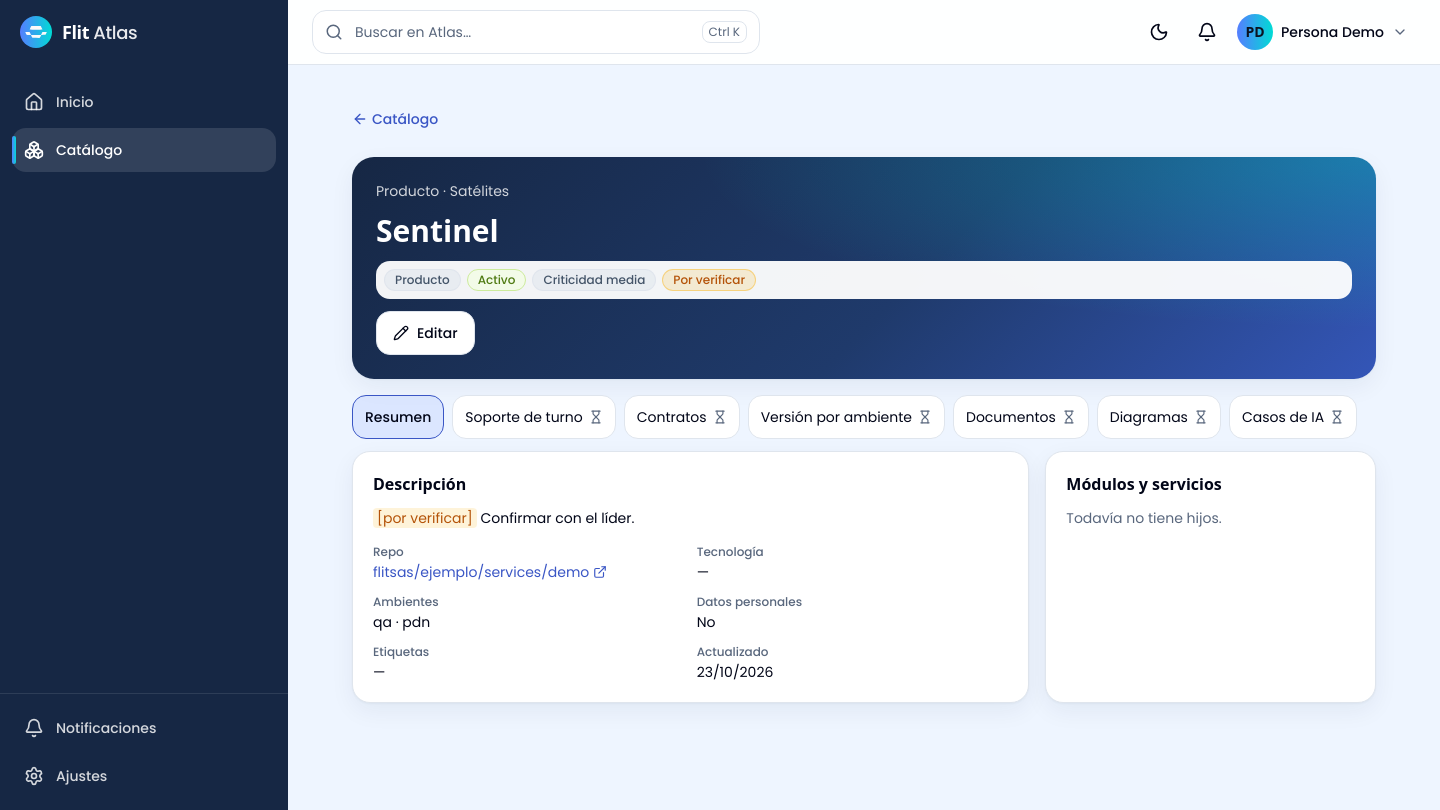
ficha del aplicativo › con editar guarda los cambios con PUT y la cabecera antifalsificación
Click the button "Editar" at coordinates (425, 333), box [376, 311, 475, 355]
(page scrolled)
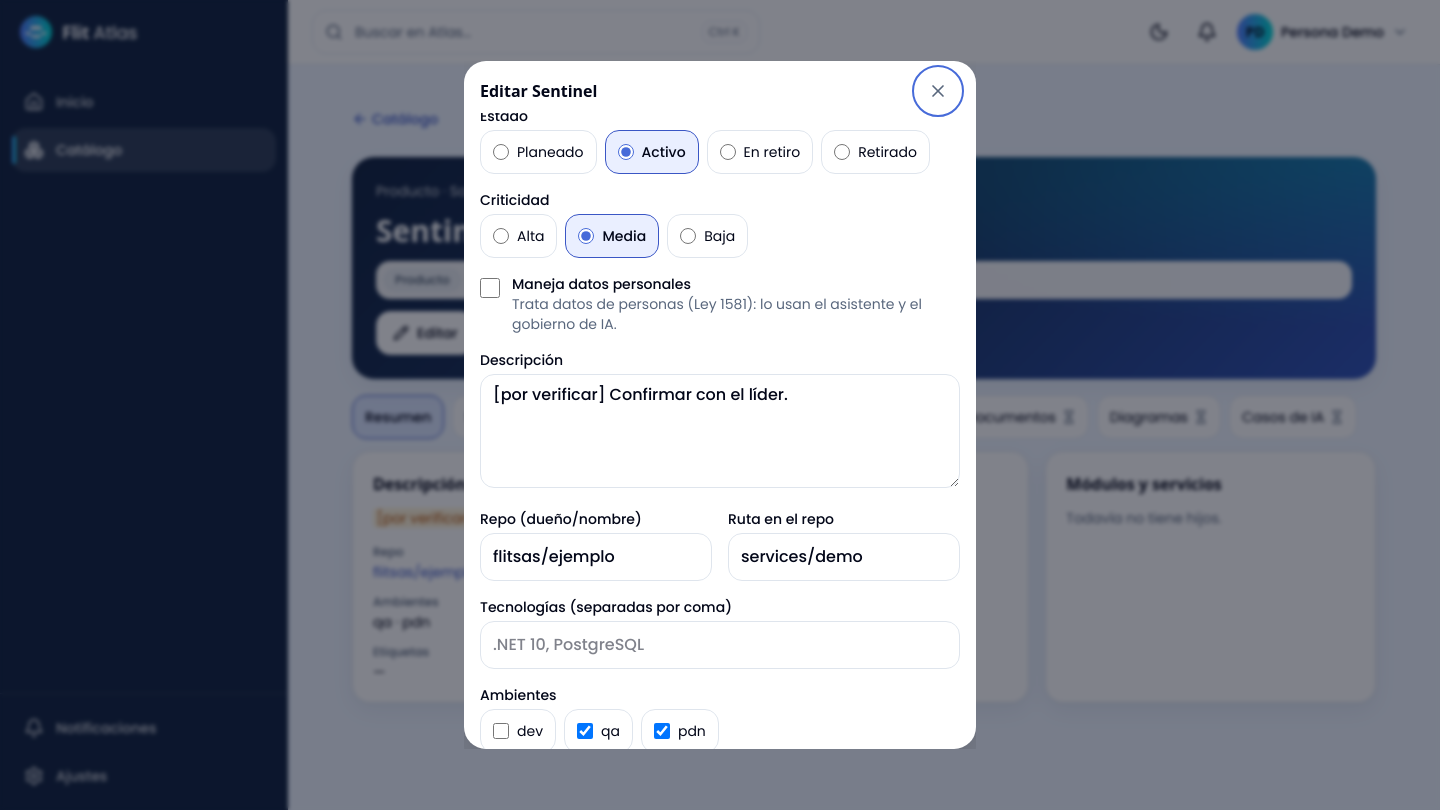
Replace the text in the text box labelled "Descripción" with "Monitoreo de FLIT." at coordinates (720, 431), box [480, 374, 960, 488]
(page scrolled)
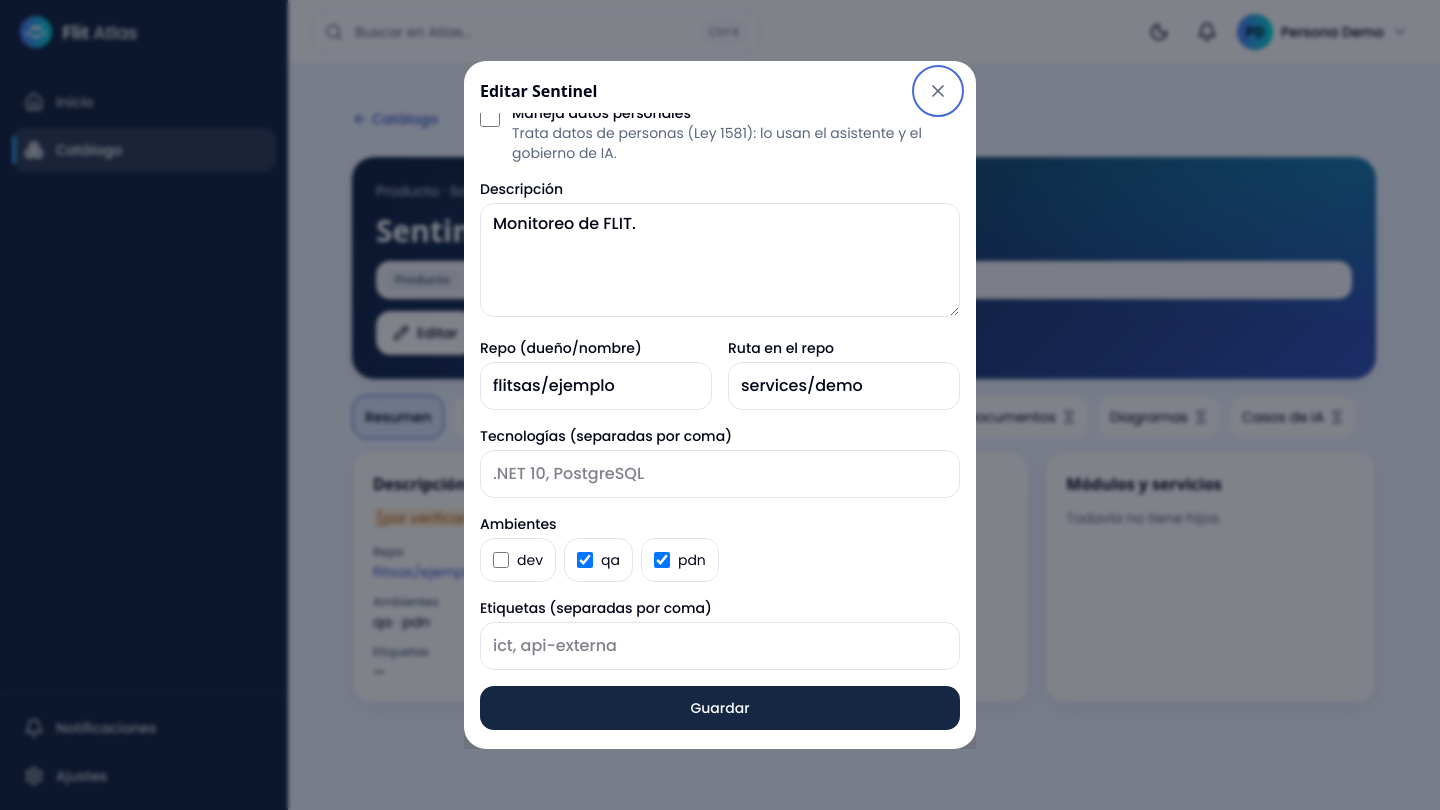
Click the button "Guardar" at coordinates (720, 708), box [480, 686, 960, 730]
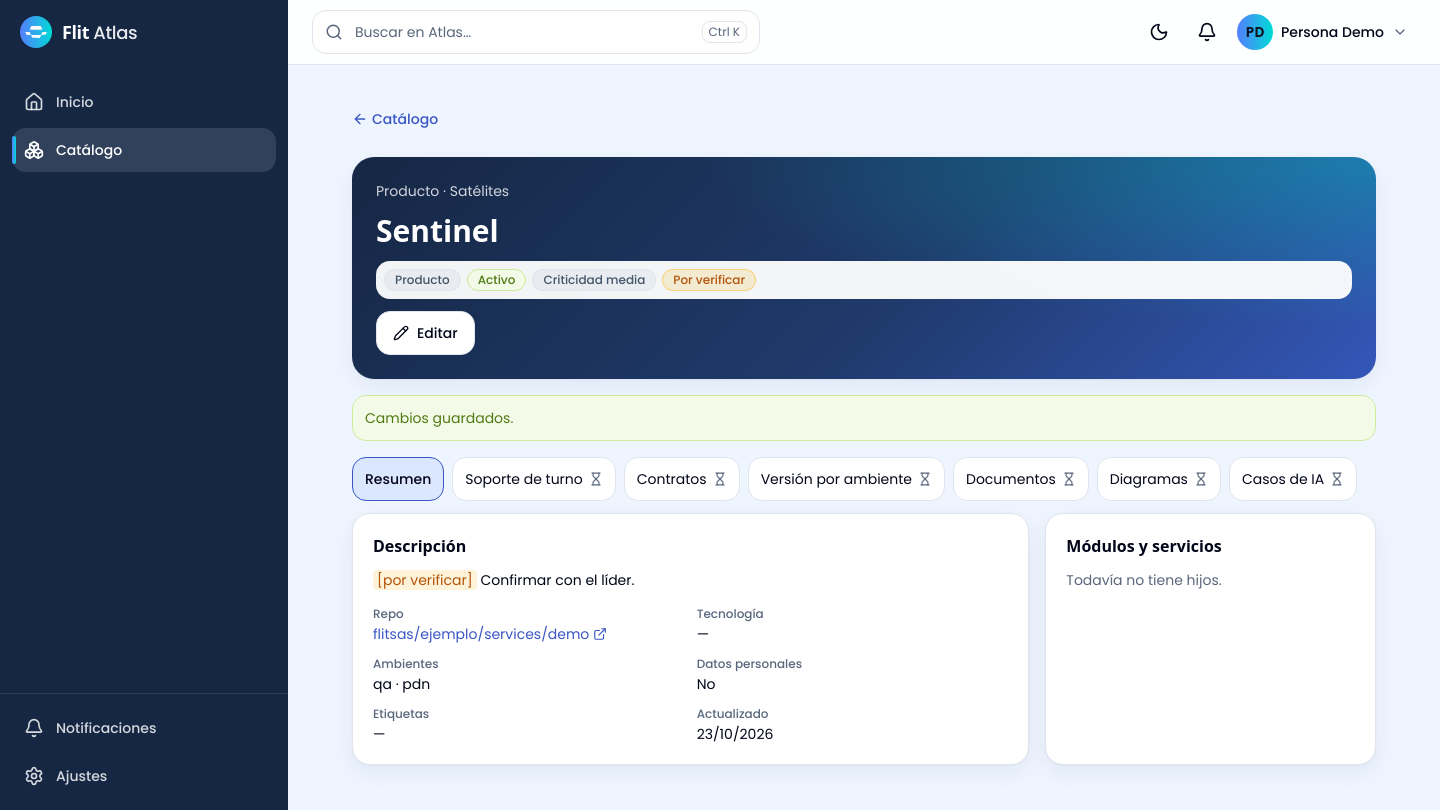
Expected: the text "Cambios guardados." is shown, [352, 395, 1376, 441]
